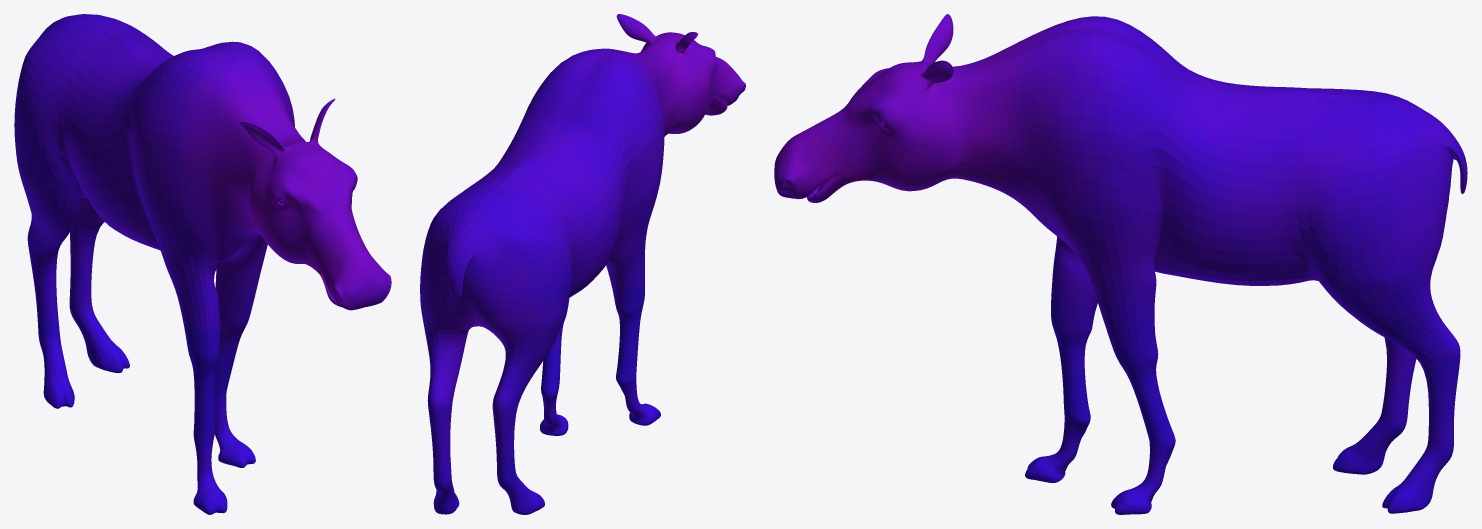
Rendered from pred.glb.
3 views of the same model, side by side, from view 1: azimuth 30°, elevation 25°; view 2: azimuth 150°, elevation 25°; view 3: azimuth 270°, elevation 25° (orthographic). The views are drawn at different scales.
Bounding box in the file's own units: 0.1393 × 0.3832 × 0.5166.
